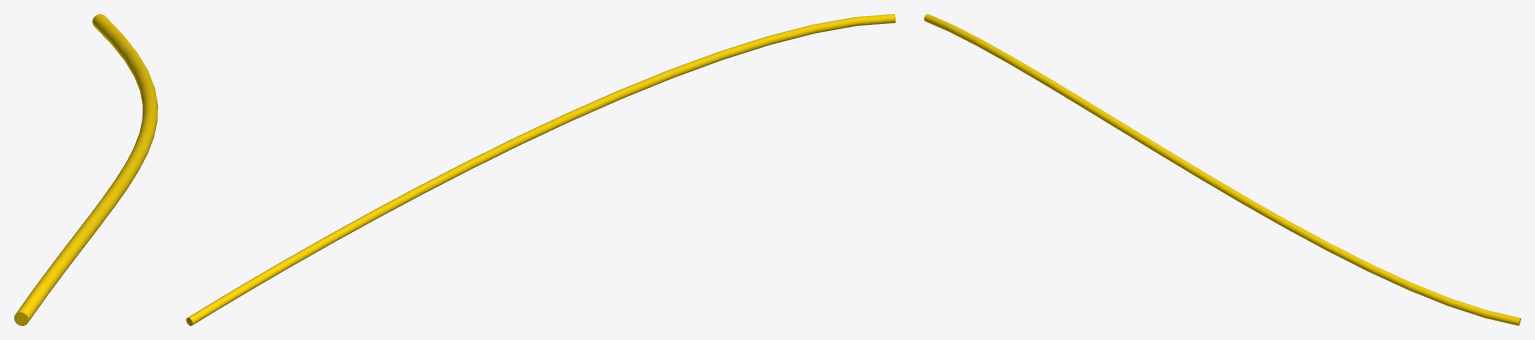
Rendered from Event_421115418_track_108.fbx.
3 views of the same model, side by side, from view 1: azimuth 90°, elevation 25°; view 2: azimuth 210°, elevation 25°; view 3: azimuth 330°, elevation 25° (orthographic). The views are drawn at different scales.
Visible parts, largest first — view 1: Model; view 2: Model; view 3: Model.
Boxes of the visible parts, x1,y1,x2,y2 form: Model: (14,14,157,325); Model: (186,14,895,325); Model: (924,14,1520,325).
Bounding box in the file's own units: 3.47 × 0.7897 × 0.3784.
